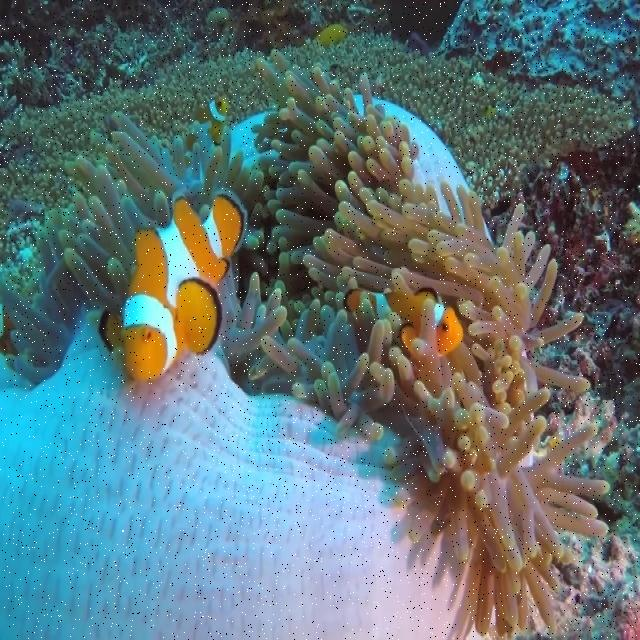fish: (98, 188, 247, 380), (344, 284, 464, 361), (195, 98, 228, 144)
reefs: (0, 50, 610, 639)
